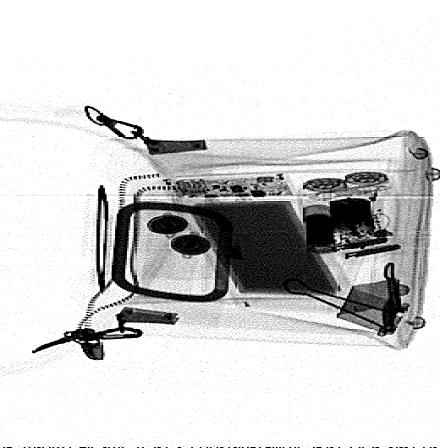Powerbank: (158, 171, 356, 308)
